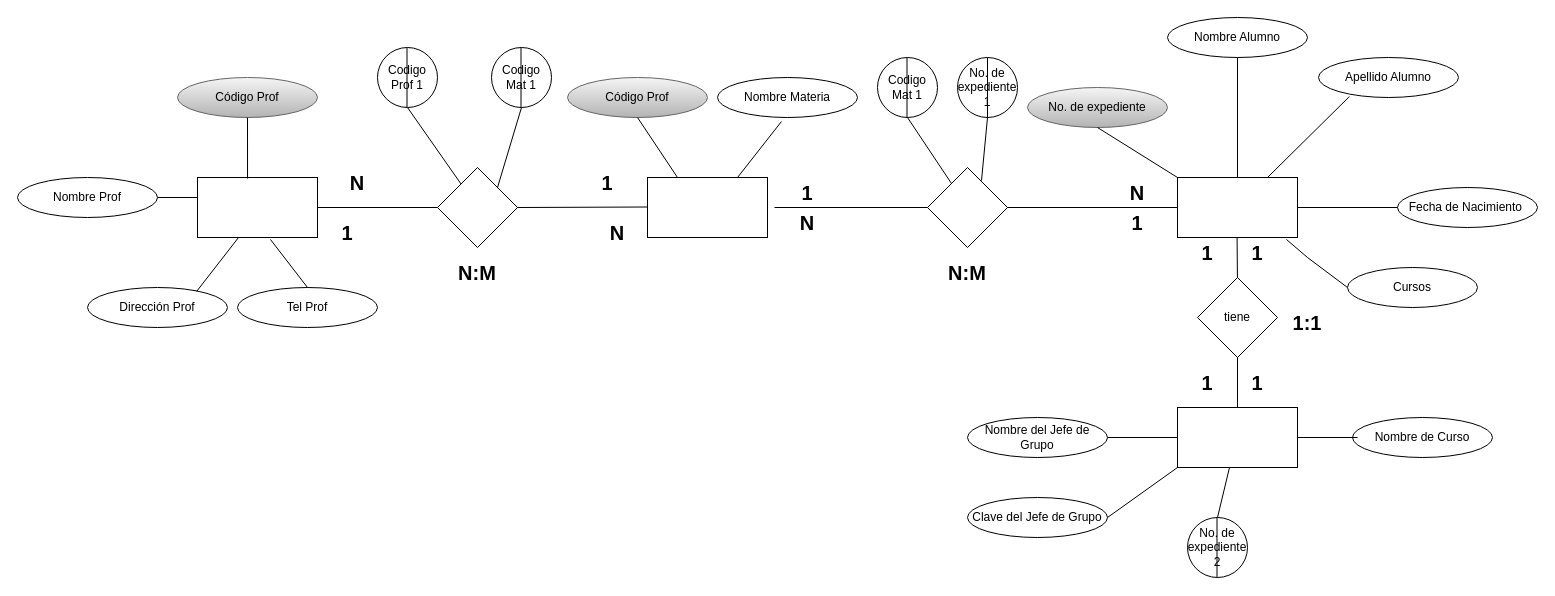
Image size: 1555x596. Some labels were removed from this diagram. The shapes that lost their labels are listed below. From the top down, each one's centre as x and y in pixels, then its label:
the point at 257,207: Profesor
the point at 477,207: Imparte
the point at 707,207: Materias
the point at 967,207: Matriculado
the point at 1237,207: Alumno
the point at 1237,437: Jefe de Grupo
